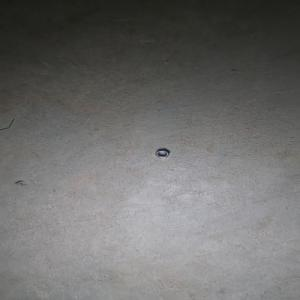Nut: (154, 149, 169, 158)
